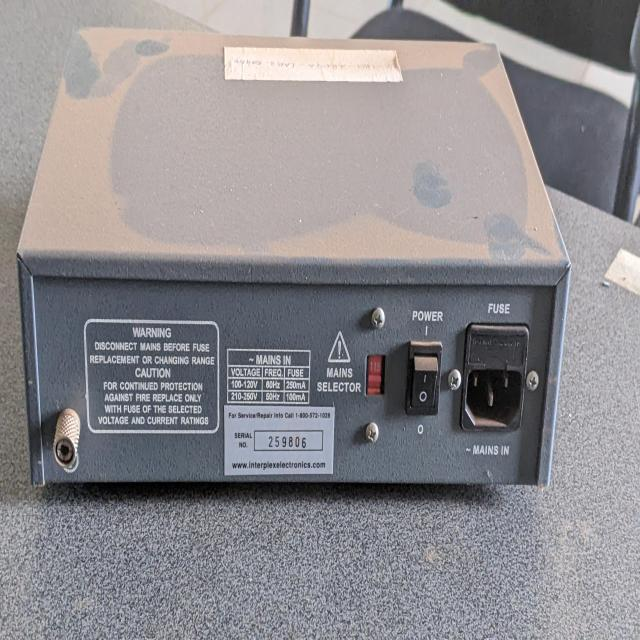A 200KHZ Function Generator: (18, 17, 574, 502)
